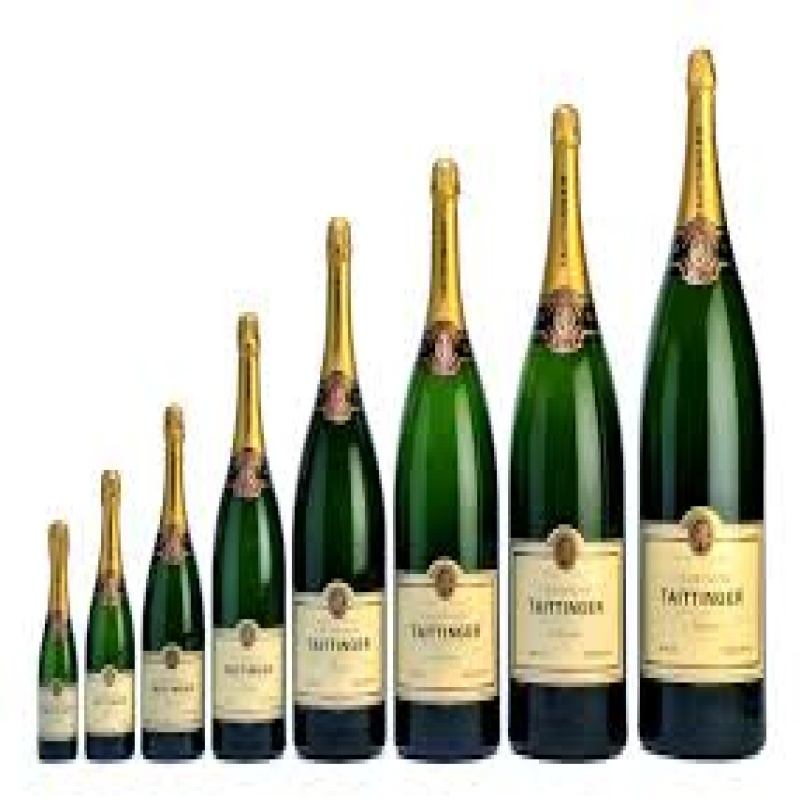wine: (637, 60, 764, 769), (493, 103, 626, 755), (388, 158, 504, 758), (292, 221, 383, 771), (216, 314, 287, 766)
